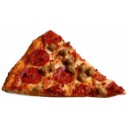pepperonipizza: (1, 29, 128, 98)
